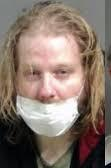Wore Mask Incorrectly: (3, 0, 111, 156)
